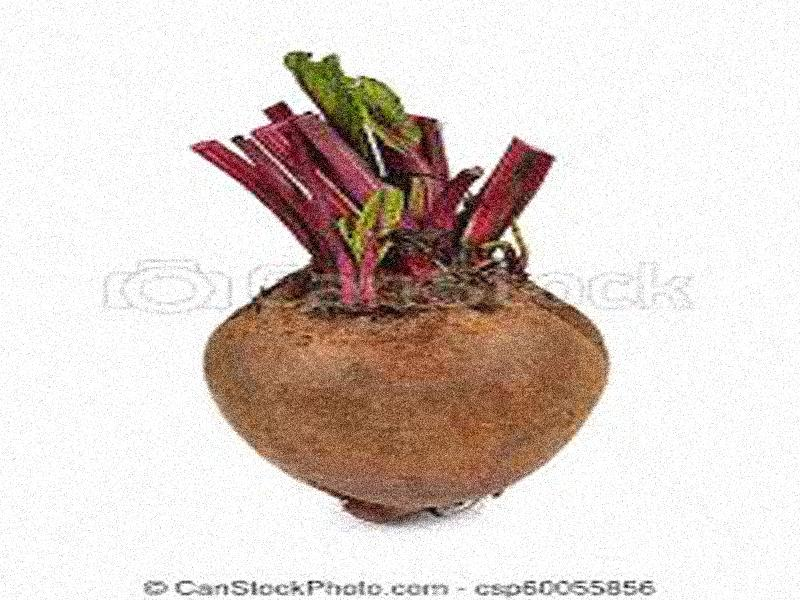Beet: (192, 52, 612, 521)
